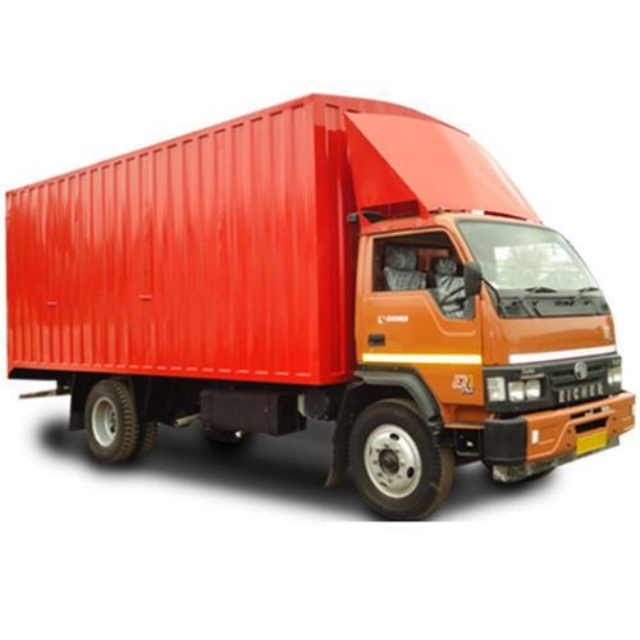Truck: (5, 92, 637, 522)
